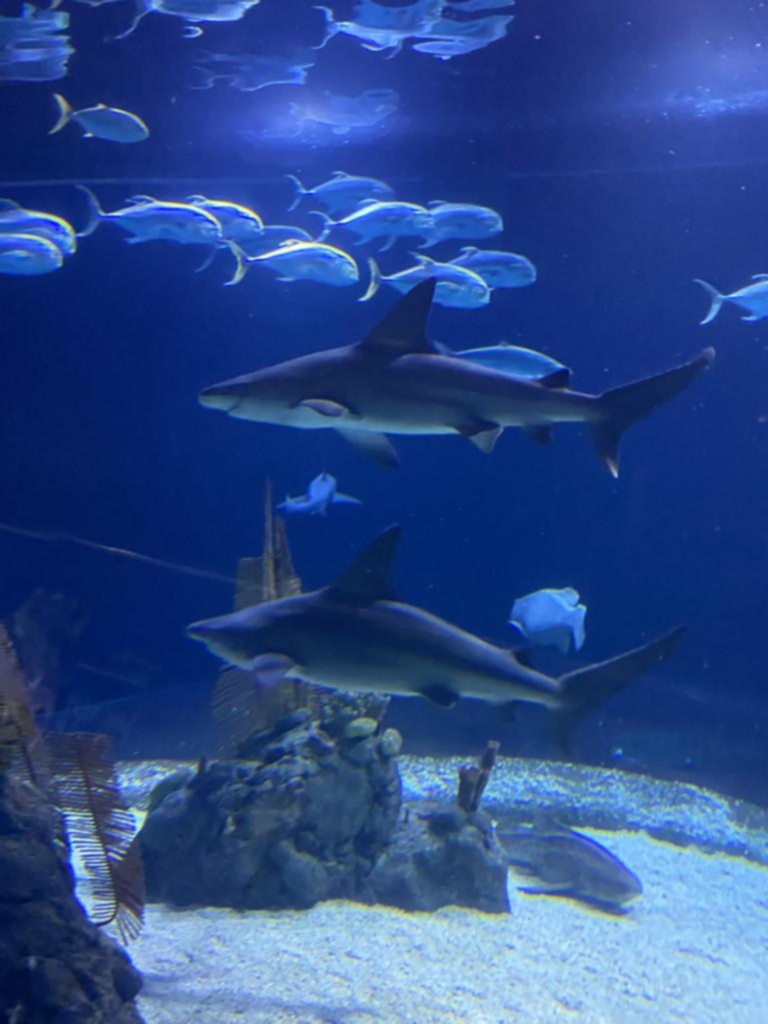fish: (490, 810, 644, 910), (74, 182, 220, 246), (357, 254, 489, 310), (218, 238, 358, 286), (308, 199, 430, 251), (506, 586, 586, 658), (282, 172, 396, 214), (456, 338, 572, 378), (0, 200, 76, 256), (416, 200, 502, 248), (184, 194, 262, 246), (48, 102, 148, 142), (693, 273, 767, 325), (445, 248, 535, 290), (0, 232, 62, 274)
shark: (186, 522, 686, 762), (195, 274, 713, 482), (277, 460, 363, 520)
